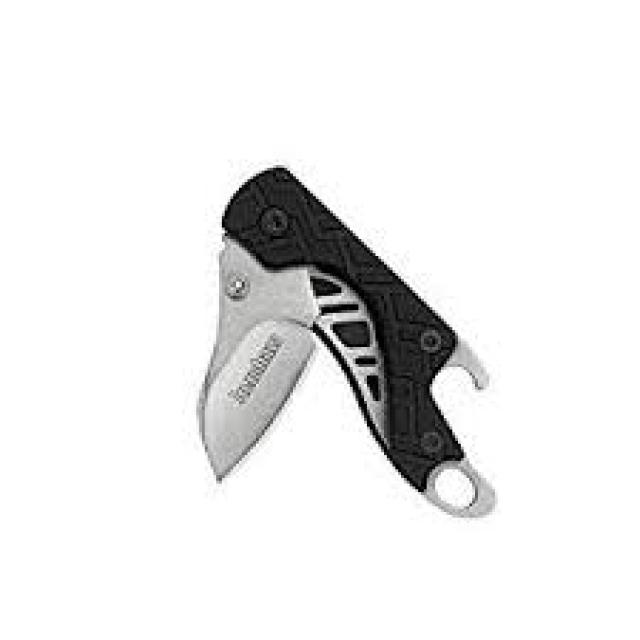knives: (188, 160, 500, 524)
